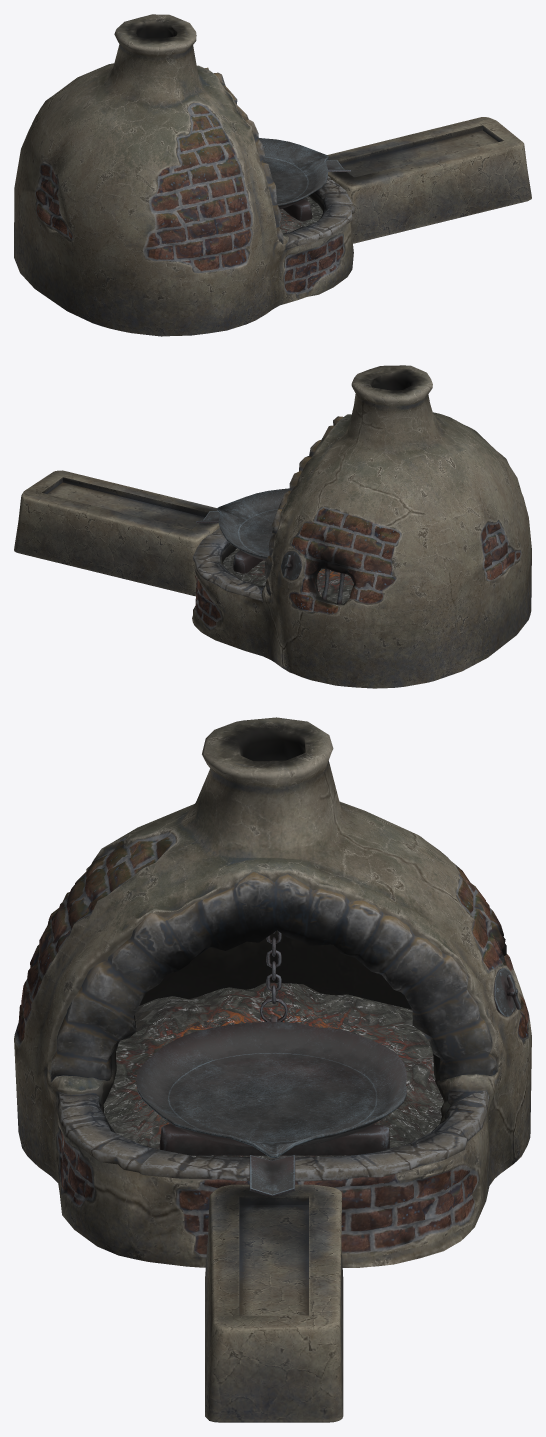
The model's file is Furnace_Export.fbx.
3 views of the same model, one above another, from view 1: azimuth 30°, elevation 25°; view 2: azimuth 150°, elevation 25°; view 3: azimuth 270°, elevation 25° (orthographic). The views are drawn at different scales.
Parts seen in each view (by area): view 1: LP_body, LP_form, LP_Cotl, LP_coal, LP_rail; view 2: LP_body, LP_form, LP_Cotl, LP_coal, LP_rail; view 3: LP_body, LP_form, LP_Cotl, LP_coal, LP_rail, LP_chain.
Part boxes in pixels (box(x1,y1,x2,y2)): LP_body: box(14, 14, 354, 336); LP_form: box(327, 117, 531, 243); LP_Cotl: box(258, 138, 328, 208); LP_coal: box(279, 196, 322, 233); LP_rail: box(282, 160, 350, 221); LP_body: box(192, 365, 531, 688); LP_form: box(14, 470, 219, 596); LP_Cotl: box(217, 488, 289, 560); LP_coal: box(223, 548, 353, 603); LP_rail: box(196, 511, 344, 604); LP_body: box(14, 717, 531, 1267); LP_form: box(205, 1184, 343, 1422); LP_Cotl: box(136, 1016, 406, 1157); LP_coal: box(103, 982, 443, 1159); LP_rail: box(159, 968, 516, 1195); LP_chain: box(260, 930, 287, 1021).
Bounding box in the file's own units: 489 × 242 × 287.
